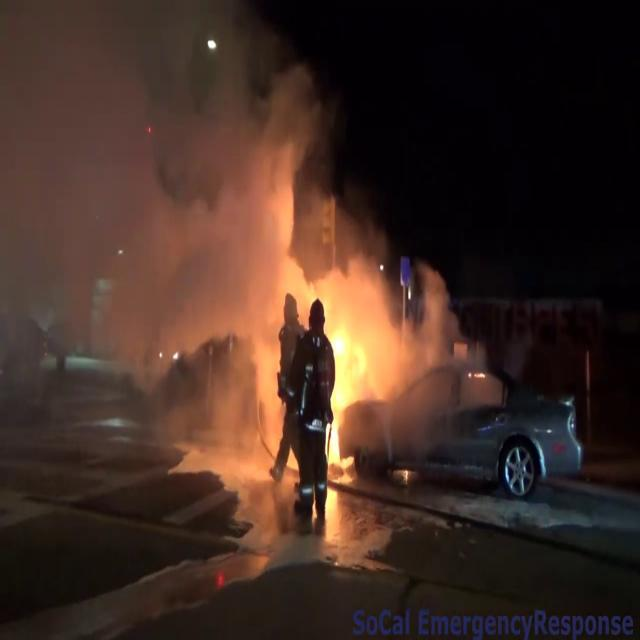Fire: (321, 307, 359, 484)
Smoke: (0, 10, 415, 355)
